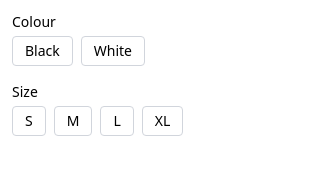
Test: VariantPicker › a combination with no matching variant is disabled
Click the button "White" at (113, 51), box [81,36,145,66]
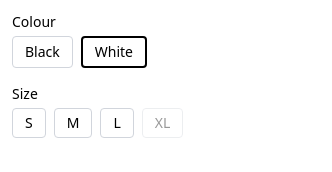
Expected: the button "M" is enabled, [54,108,92,138]
Now the button "XL" is disabled, box [142,108,183,138]
